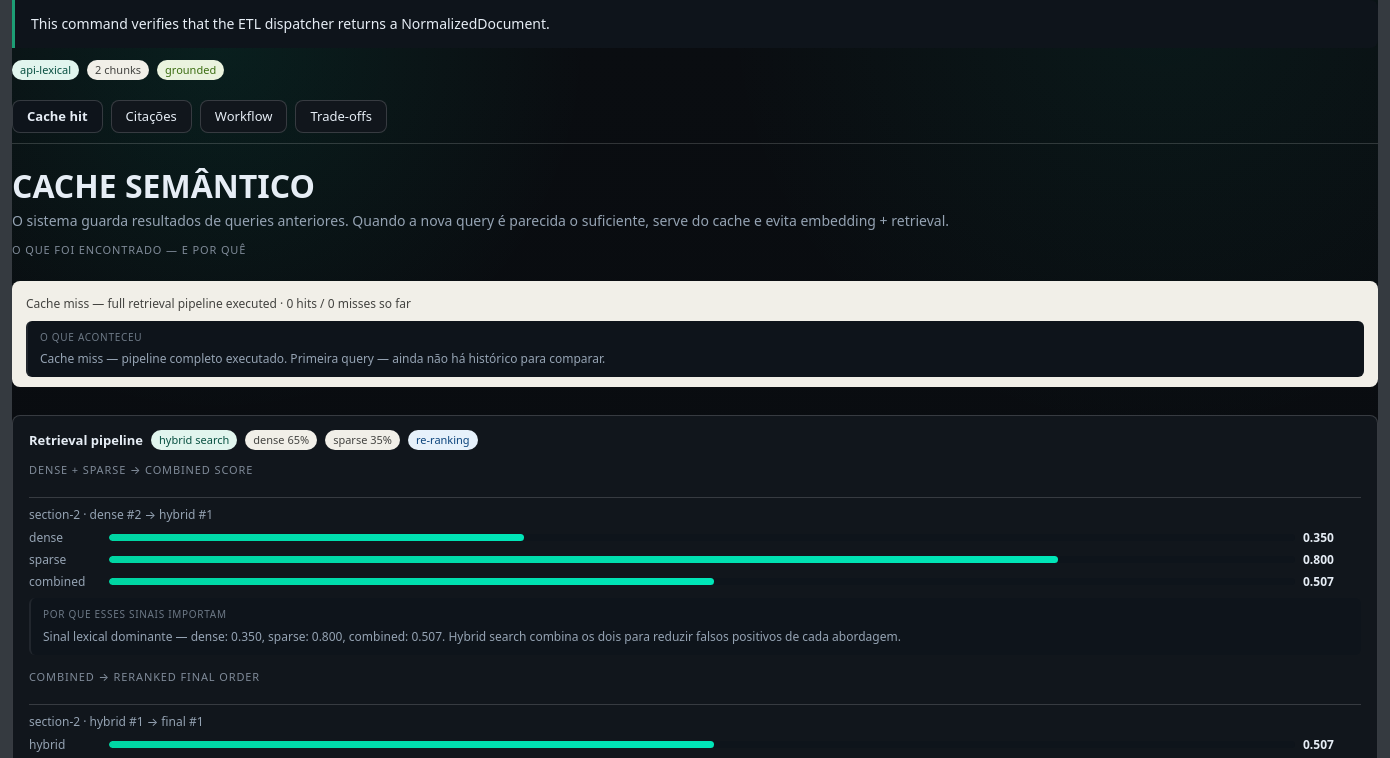
Scenario: AnswerPanel › renders chunks, citations, workflow, and trade-offs from full data
This screenshot has width=1390, height=758.
Expected: the text "retrieval pipeline" is shown, [26, 295, 286, 312]
Expected: the text "dense + sparse → combined score" is shown, [29, 462, 253, 478]
Click the tab "Citações": (151, 116) [111, 100, 192, 133]
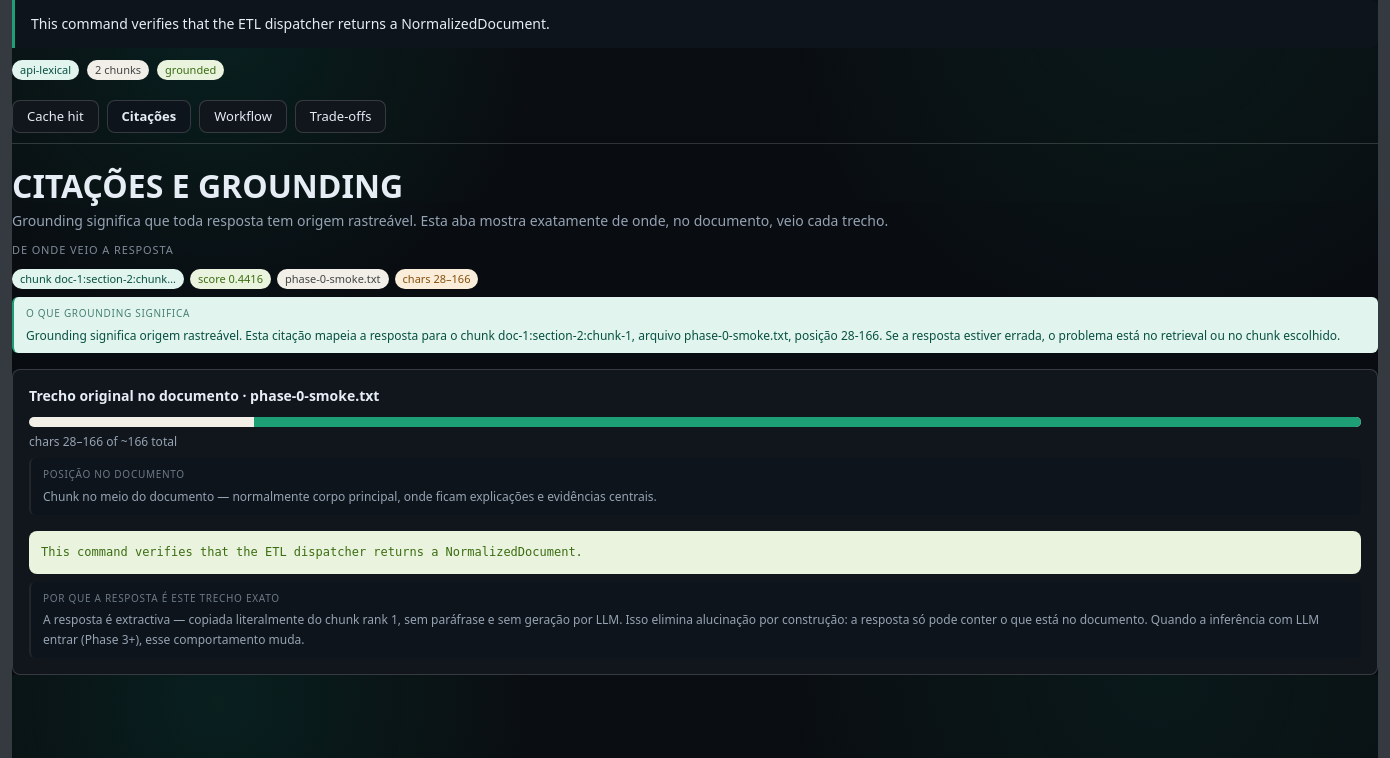
Result: the text "Grounding significa" is shown at [12, 211, 888, 230]
Click the tab "Workflow": (243, 116) [199, 100, 287, 133]
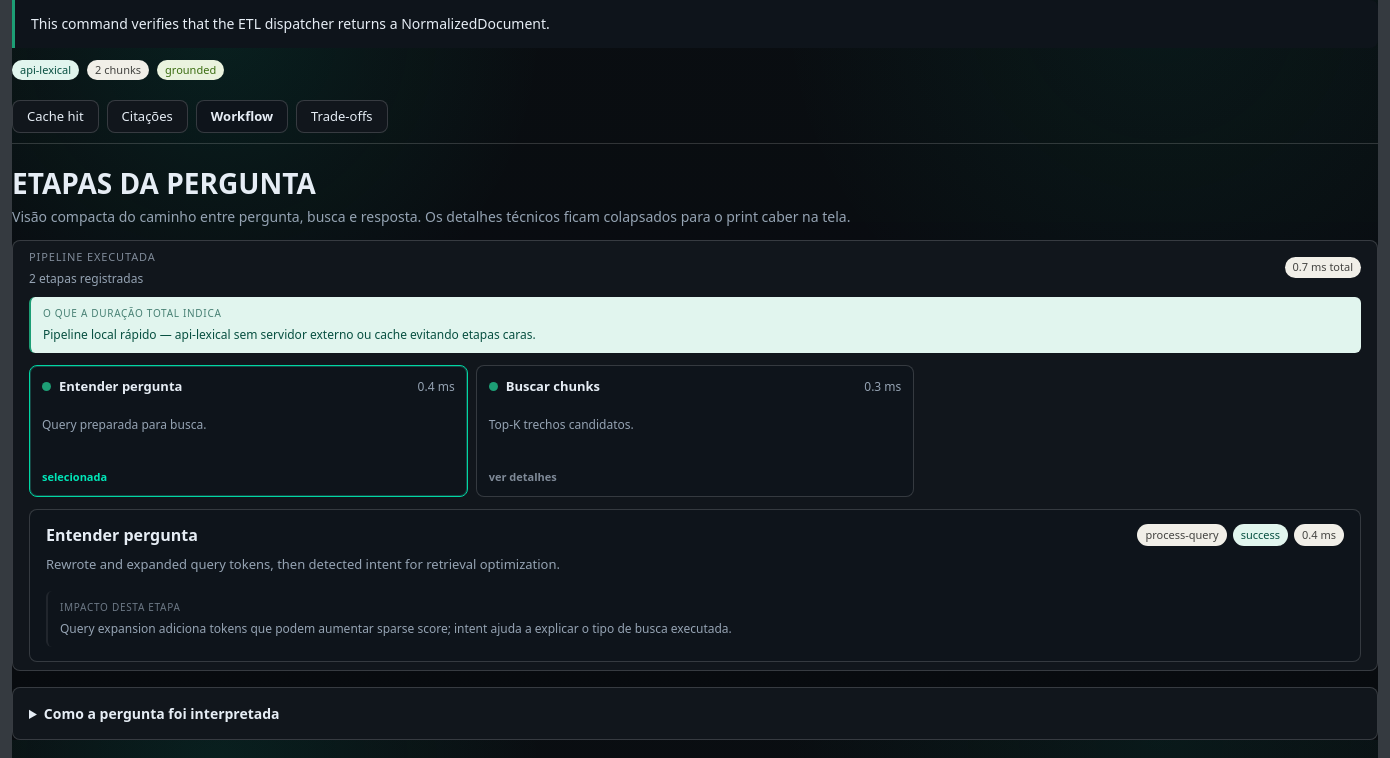
Result: the text "process-query" is shown at [1137, 524, 1227, 546]
Click the tab "Trade-offs": (342, 116) [296, 100, 388, 133]
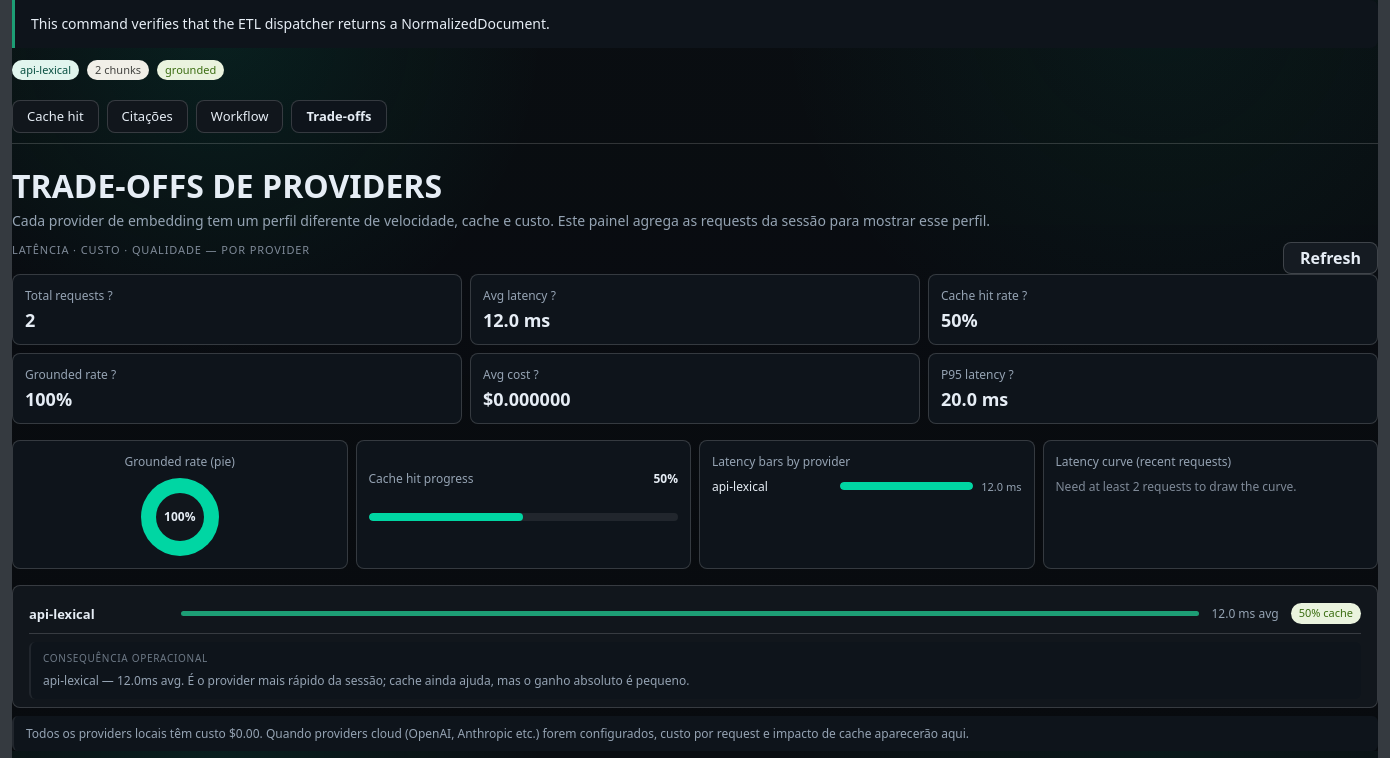
Expected: the text "api-lexical" in the row of "chunks" is shown, [20, 62, 71, 77]
Result: the text "Total requests ?" is shown at [25, 287, 113, 304]
